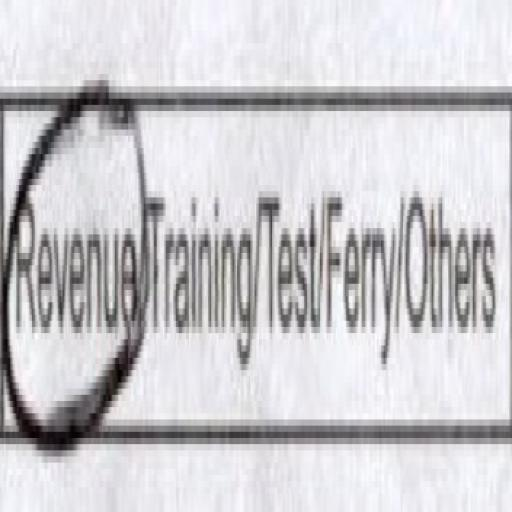check: (0, 12, 143, 512)
